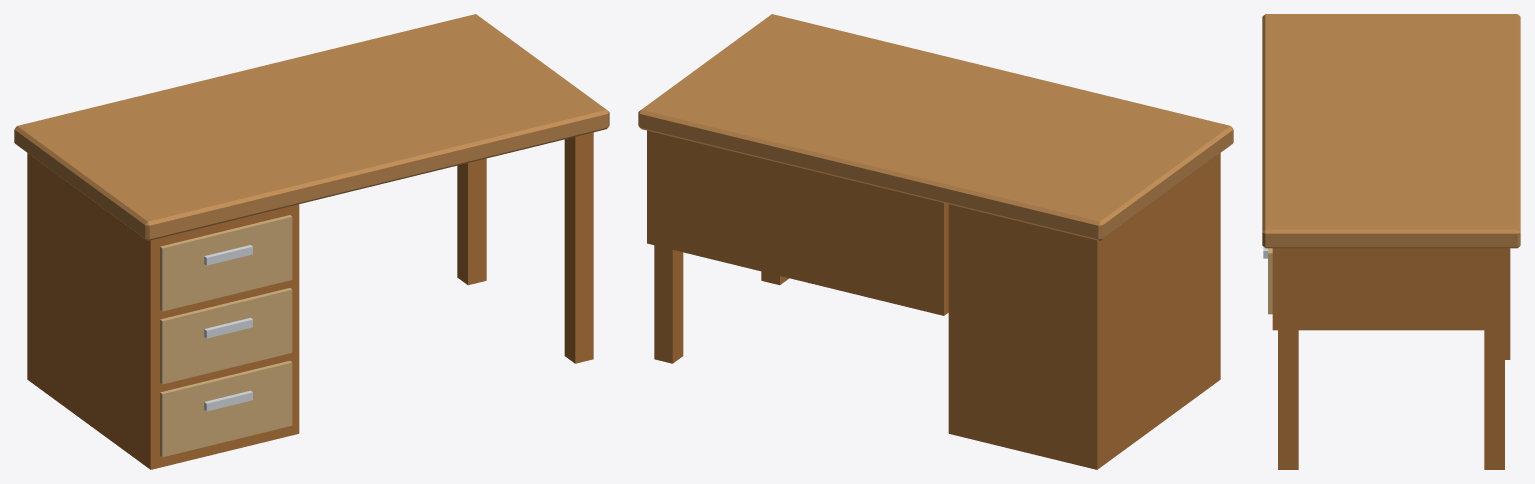
Rendered from FUR_Desk_Frac.fbx.
The picture shows the model from 3 angles, left to right: view 1: azimuth 30°, elevation 25°; view 2: azimuth 150°, elevation 25°; view 3: azimuth 270°, elevation 25°; orthographic projection. The views are drawn at different scales.
Parts seen in each view (by area): view 1: FUR_Desk_Frac_2, FUR_Desk_Frac_3, FUR_Desk_Frac_5, FUR_Desk_Frac_1, FUR_Desk_Frac_4; view 2: FUR_Desk_Frac_2, FUR_Desk_Frac_3, FUR_Desk_Frac_1, FUR_Desk_Frac_5, FUR_Desk_Frac_4; view 3: FUR_Desk_Frac_2, FUR_Desk_Frac_3, FUR_Desk_Frac_5, FUR_Desk_Frac_1, FUR_Desk_Frac_4.
Boxes of the visible parts, x1,y1,x2,y2 form: FUR_Desk_Frac_2: (14,84,304,469); FUR_Desk_Frac_3: (187,14,578,204); FUR_Desk_Frac_5: (453,89,609,363); FUR_Desk_Frac_1: (252,118,486,285); FUR_Desk_Frac_4: (371,108,569,359); FUR_Desk_Frac_2: (894,89,1233,469); FUR_Desk_Frac_3: (638,34,1017,303); FUR_Desk_Frac_1: (654,71,1079,363); FUR_Desk_Frac_5: (744,14,924,283); FUR_Desk_Frac_4: (772,51,1005,285); FUR_Desk_Frac_2: (1262,14,1520,330); FUR_Desk_Frac_3: (1318,88,1520,402); FUR_Desk_Frac_5: (1262,157,1337,469); FUR_Desk_Frac_1: (1262,84,1504,469); FUR_Desk_Frac_4: (1262,119,1345,180).
Bounding box in the file's own units: 5 × 2.6 × 2.5.
